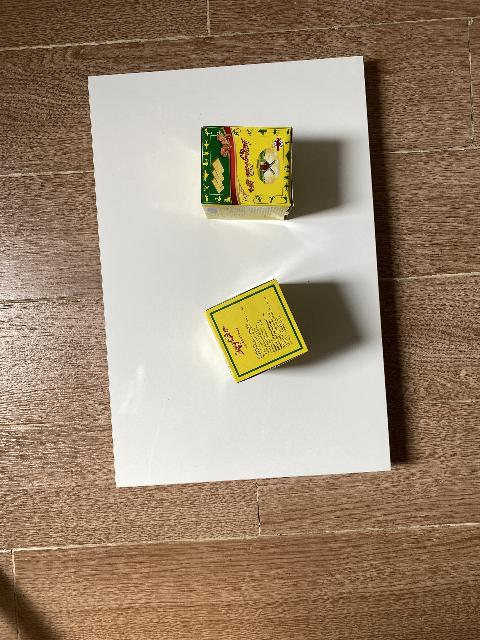luong_kho: (204, 278, 308, 384), (200, 126, 294, 221)
